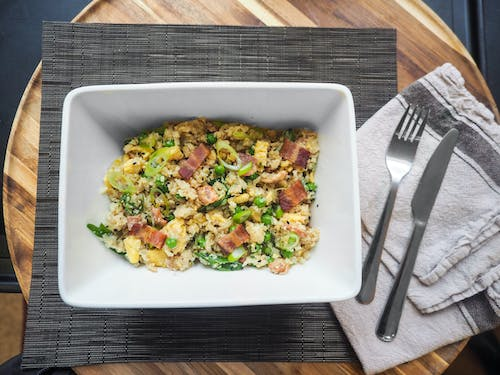knife: (374, 127, 460, 344)
